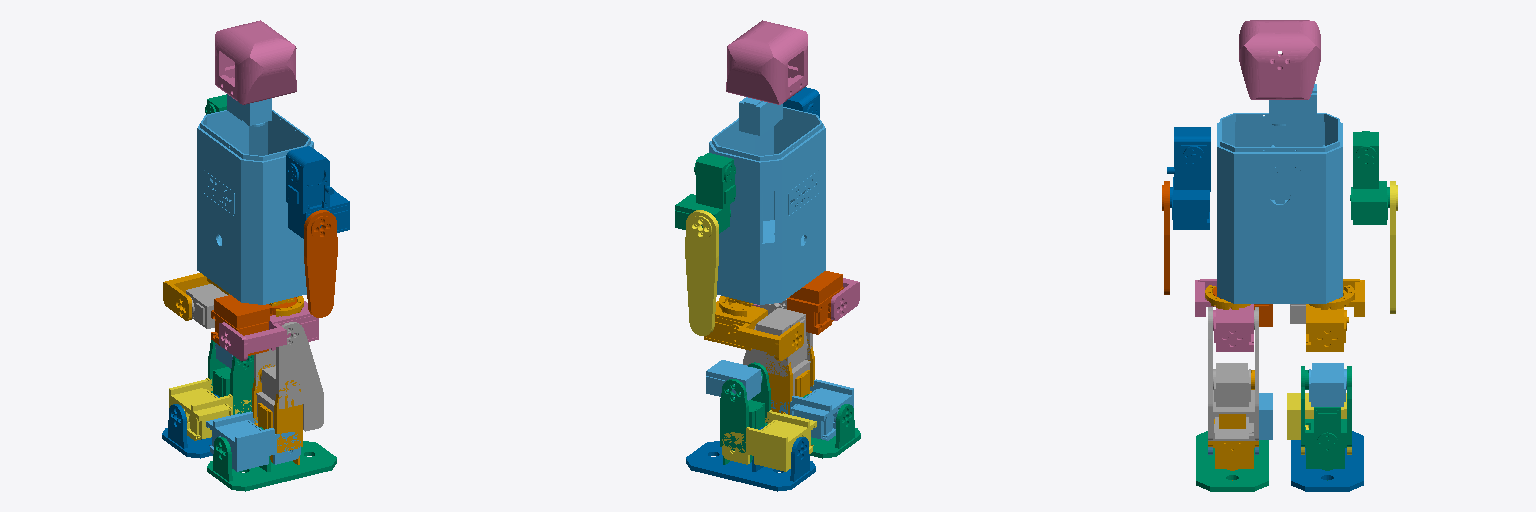
URDF robot description (jx0):
<?xml version="1.0"?>
<!-- generated by jx0/rl/build_description.py: do not edit -->
<robot name="jx0">
  <link name="pelvis">
    <inertial>
      <origin xyz="0.00067658 0 0.0490736" rpy="0 0 0"/>
      <mass value="0.269"/>
      <inertia ixx="0.000523292" ixy="0" ixz="0" iyy="6.62058e-05" iyz="0" izz="0.000524273"/>
    </inertial>
    <visual>
      <origin xyz="0 0 0" rpy="0 0 0"/>
      <geometry><mesh filename="../../../cad/stl_engraved/JX0_Pelvis.stl" scale="0.001 0.001 0.001"/></geometry>
    </visual>
    <visual>
      <origin xyz="0 0.045 0" rpy="0 0 0"/>
      <geometry><mesh filename="../../../cad/stl_engraved/JX0_YawKeeper_L.stl" scale="0.001 0.001 0.001"/></geometry>
    </visual>
    <visual>
      <origin xyz="0 0.045 0" rpy="0 0 0"/>
      <geometry><mesh filename="../../../cad/stl_engraved/JX0_YawRing_L.stl" scale="0.001 0.001 0.001"/></geometry>
    </visual>
    <visual>
      <origin xyz="0 0.045 0.0491" rpy="3.14159 0 -1.5708"/>
      <geometry><mesh filename="../../../cad/stl_engraved/JX0_Servo_STS3215.stl" scale="0.001 0.001 0.001"/></geometry>
    </visual>
    <visual>
      <origin xyz="0 -0.045 0" rpy="0 0 0"/>
      <geometry><mesh filename="../../../cad/stl_engraved/JX0_YawKeeper_R.stl" scale="0.001 0.001 0.001"/></geometry>
    </visual>
    <visual>
      <origin xyz="0 -0.045 0" rpy="0 0 0"/>
      <geometry><mesh filename="../../../cad/stl_engraved/JX0_YawRing_R.stl" scale="0.001 0.001 0.001"/></geometry>
    </visual>
    <visual>
      <origin xyz="0 -0.045 0.0491" rpy="3.14159 0 1.5708"/>
      <geometry><mesh filename="../../../cad/stl_engraved/JX0_Servo_STS3215.stl" scale="0.001 0.001 0.001"/></geometry>
    </visual>
  </link>
  <link name="torso_link">
    <inertial>
      <origin xyz="0.005 0 0.143" rpy="0 0 0"/>
      <mass value="0.663"/>
      <inertia ixx="0.00380673" ixy="0" ixz="0" iyy="0.0025636" iyz="0" izz="0.00195033"/>
    </inertial>
    <visual>
      <origin xyz="0 0 0" rpy="0 0 0"/>
      <geometry><mesh filename="../../../cad/stl_engraved/JX0_Torso.stl" scale="0.001 0.001 0.001"/></geometry>
    </visual>
    <visual>
      <origin xyz="0 0 0" rpy="0 0 0"/>
      <geometry><mesh filename="../../../cad/stl_engraved/JX0_ChestCap.stl" scale="0.001 0.001 0.001"/></geometry>
    </visual>
    <visual>
      <origin xyz="0 0 0.2256" rpy="0 0 1.5708"/>
      <geometry><mesh filename="../../../cad/stl_engraved/JX0_Servo_STS3215.stl" scale="0.001 0.001 0.001"/></geometry>
    </visual>
  </link>
  <link name="left_upper_arm_link">
    <inertial>
      <origin xyz="0.0064 0.0198 -0.0326" rpy="0 0 0"/>
      <mass value="0.204"/>
      <inertia ixx="0.00011" ixy="0" ixz="0" iyy="0.00013" iyz="0" izz="7e-05"/>
    </inertial>
    <visual>
      <origin xyz="0 0 0" rpy="0 0 0"/>
      <geometry><mesh filename="../../../cad/stl_engraved/JX0_UpperArm_L.stl" scale="0.001 0.001 0.001"/></geometry>
    </visual>
    <visual>
      <origin xyz="0 0.0188 0" rpy="0 1.5708 0"/>
      <geometry><mesh filename="../../../cad/stl_engraved/JX0_Servo_STS3215.stl" scale="0.001 0.001 0.001"/></geometry>
    </visual>
    <visual>
      <origin xyz="0 0.0222 -0.052" rpy="-1.5708 0 0"/>
      <geometry><mesh filename="../../../cad/stl_engraved/JX0_Servo_STS3215.stl" scale="0.001 0.001 0.001"/></geometry>
    </visual>
  </link>
  <link name="left_forearm_link">
    <inertial>
      <origin xyz="0.0008 0.0032 -0.0382" rpy="0 0 0"/>
      <mass value="0.016"/>
      <inertia ixx="1.5e-05" ixy="0" ixz="0" iyy="1.5e-05" iyz="0" izz="1.5e-06"/>
    </inertial>
    <visual>
      <origin xyz="0 0 0" rpy="0 0 0"/>
      <geometry><mesh filename="../../../cad/stl_engraved/JX0_ArmBlade_L.stl" scale="0.001 0.001 0.001"/></geometry>
    </visual>
  </link>
  <link name="right_upper_arm_link">
    <inertial>
      <origin xyz="0.0064 -0.0198 -0.0326" rpy="0 0 0"/>
      <mass value="0.204"/>
      <inertia ixx="0.00011" ixy="0" ixz="0" iyy="0.00013" iyz="0" izz="7e-05"/>
    </inertial>
    <visual>
      <origin xyz="0 0 0" rpy="0 0 0"/>
      <geometry><mesh filename="../../../cad/stl_engraved/JX0_UpperArm_R.stl" scale="0.001 0.001 0.001"/></geometry>
    </visual>
    <visual>
      <origin xyz="0 -0.0188 0" rpy="0 1.5708 0"/>
      <geometry><mesh filename="../../../cad/stl_engraved/JX0_Servo_STS3215.stl" scale="0.001 0.001 0.001"/></geometry>
    </visual>
    <visual>
      <origin xyz="0 -0.0222 -0.052" rpy="1.5708 0 0"/>
      <geometry><mesh filename="../../../cad/stl_engraved/JX0_Servo_STS3215.stl" scale="0.001 0.001 0.001"/></geometry>
    </visual>
  </link>
  <link name="right_forearm_link">
    <inertial>
      <origin xyz="0.0008 -0.0032 -0.0382" rpy="0 0 0"/>
      <mass value="0.016"/>
      <inertia ixx="1.5e-05" ixy="0" ixz="0" iyy="1.5e-05" iyz="0" izz="1.5e-06"/>
    </inertial>
    <visual>
      <origin xyz="0 0 0" rpy="0 0 0"/>
      <geometry><mesh filename="../../../cad/stl_engraved/JX0_ArmBlade_R.stl" scale="0.001 0.001 0.001"/></geometry>
    </visual>
  </link>
  <link name="head_link">
    <inertial>
      <origin xyz="0 0 0.031" rpy="0 0 0"/>
      <mass value="0.077"/>
      <inertia ixx="4e-05" ixy="0" ixz="0" iyy="4e-05" iyz="0" izz="4e-05"/>
    </inertial>
    <visual>
      <origin xyz="0 0 0" rpy="0 0 0"/>
      <geometry><mesh filename="../../../cad/stl_engraved/JX0_Head.stl" scale="0.001 0.001 0.001"/></geometry>
    </visual>
    <visual>
      <origin xyz="0 0 0" rpy="0 0 0"/>
      <geometry><mesh filename="../../../cad/stl_engraved/JX0_NeckHub.stl" scale="0.001 0.001 0.001"/></geometry>
    </visual>
  </link>
  <link name="left_hip_yaw_link">
    <inertial>
      <origin xyz="-0.0308234 -0.0115345 0.0057931" rpy="0 0 0"/>
      <mass value="0.145"/>
      <inertia ixx="4.07101e-05" ixy="0" ixz="0" iyy="5.45606e-05" iyz="0" izz="5.12416e-05"/>
    </inertial>
    <visual>
      <origin xyz="0 0 0" rpy="0 0 0"/>
      <geometry><mesh filename="../../../cad/stl_engraved/JX0_HipYawBracket_L.stl" scale="0.001 0.001 0.001"/></geometry>
    </visual>
    <visual>
      <origin xyz="-0.0347 0 0" rpy="-1.5708 0 -1.5708"/>
      <geometry><mesh filename="../../../cad/stl_engraved/JX0_Servo_STS3215.stl" scale="0.001 0.001 0.001"/></geometry>
    </visual>
  </link>
  <link name="left_hip_roll_link">
    <inertial>
      <origin xyz="0.00558468 0.00197581 0.000564516" rpy="0 0 0"/>
      <mass value="0.124"/>
      <inertia ixx="3.40288e-05" ixy="0" ixz="0" iyy="4.28804e-05" iyz="0" izz="5.59343e-05"/>
    </inertial>
    <visual>
      <origin xyz="0 0 0" rpy="0 0 0"/>
      <geometry><mesh filename="../../../cad/stl_engraved/JX0_HipRollBracket_L.stl" scale="0.001 0.001 0.001"/></geometry>
    </visual>
    <visual>
      <origin xyz="0 0 0" rpy="-1.5708 0 0"/>
      <geometry><mesh filename="../../../cad/stl_engraved/JX0_Servo_STS3215.stl" scale="0.001 0.001 0.001"/></geometry>
    </visual>
  </link>
  <link name="left_thigh_link">
    <inertial>
      <origin xyz="0.0123296 -0.000681481 -0.0555259" rpy="0 0 0"/>
      <mass value="0.135"/>
      <inertia ixx="5.53996e-05" ixy="0" ixz="0" iyy="4.8902e-05" iyz="0" izz="3.93075e-05"/>
    </inertial>
    <visual>
      <origin xyz="0 0 0" rpy="0 0 0"/>
      <geometry><mesh filename="../../../cad/stl_engraved/JX0_Thigh_L.stl" scale="0.001 0.001 0.001"/></geometry>
    </visual>
    <collision>
      <origin xyz="0 0 0" rpy="0 0 0"/>
      <geometry><mesh filename="../../../cad/stl_engraved/JX0_Thigh_L.stl" scale="0.001 0.001 0.001"/></geometry>
    </collision>
    <visual>
      <origin xyz="0 0 -0.062" rpy="-1.5708 0 0"/>
      <geometry><mesh filename="../../../cad/stl_engraved/JX0_Servo_STS3215.stl" scale="0.001 0.001 0.001"/></geometry>
    </visual>
  </link>
  <link name="left_shin_link">
    <inertial>
      <origin xyz="0.000478632 -0.000717949 -0.040594" rpy="0 0 0"/>
      <mass value="0.117"/>
      <inertia ixx="4.35498e-05" ixy="0" ixz="0" iyy="3.3372e-05" iyz="0" izz="2.9693e-05"/>
    </inertial>
    <visual>
      <origin xyz="0 0 0" rpy="0 0 0"/>
      <geometry><mesh filename="../../../cad/stl_engraved/JX0_Shin_L.stl" scale="0.001 0.001 0.001"/></geometry>
    </visual>
    <collision>
      <origin xyz="0 0 0" rpy="0 0 0"/>
      <geometry><mesh filename="../../../cad/stl_engraved/JX0_Shin_L.stl" scale="0.001 0.001 0.001"/></geometry>
    </collision>
    <visual>
      <origin xyz="0 0 -0.058" rpy="0 -1.5708 0"/>
      <geometry><mesh filename="../../../cad/stl_engraved/JX0_Servo_STS3215.stl" scale="0.001 0.001 0.001"/></geometry>
    </visual>
  </link>
  <link name="left_ankle_pitch_link">
    <inertial>
      <origin xyz="-0.0375221 -0.00817176 0" rpy="0 0 0"/>
      <mass value="0.131"/>
      <inertia ixx="3.1866e-05" ixy="0" ixz="0" iyy="4.59e-05" iyz="0" izz="5.55629e-05"/>
    </inertial>
    <visual>
      <origin xyz="0 0 0" rpy="0 0 0"/>
      <geometry><mesh filename="../../../cad/stl_engraved/JX0_AnkleBracket_L.stl" scale="0.001 0.001 0.001"/></geometry>
    </visual>
    <visual>
      <origin xyz="-0.0408 0 0" rpy="-1.5708 0 -1.5708"/>
      <geometry><mesh filename="../../../cad/stl_engraved/JX0_Servo_STS3215.stl" scale="0.001 0.001 0.001"/></geometry>
    </visual>
  </link>
  <link name="left_foot_link">
    <inertial>
      <origin xyz="-0.014 0 -0.026" rpy="0 0 0"/>
      <mass value="0.061"/>
      <inertia ixx="2.94833e-05" ixy="0" ixz="0" iyy="8.27363e-05" iyz="0" izz="0.00010307"/>
    </inertial>
    <visual>
      <origin xyz="0 0 0" rpy="0 0 0"/>
      <geometry><mesh filename="../../../cad/stl_engraved/JX0_Foot.stl" scale="0.001 0.001 0.001"/></geometry>
    </visual>
    <collision name="left_foot_link_sole">
      <origin xyz="-0.006 0 -0.032" rpy="0 0 0"/>
      <geometry><box size="0.124 0.07 0.002"/></geometry>
    </collision>
  </link>
  <link name="right_hip_yaw_link">
    <inertial>
      <origin xyz="-0.0308234 0.0115345 0.0057931" rpy="0 0 0"/>
      <mass value="0.145"/>
      <inertia ixx="4.07101e-05" ixy="0" ixz="0" iyy="5.45606e-05" iyz="0" izz="5.12416e-05"/>
    </inertial>
    <visual>
      <origin xyz="0 0 0" rpy="0 0 0"/>
      <geometry><mesh filename="../../../cad/stl_engraved/JX0_HipYawBracket_R.stl" scale="0.001 0.001 0.001"/></geometry>
    </visual>
    <visual>
      <origin xyz="-0.0347 0 0" rpy="1.5708 0 1.5708"/>
      <geometry><mesh filename="../../../cad/stl_engraved/JX0_Servo_STS3215.stl" scale="0.001 0.001 0.001"/></geometry>
    </visual>
  </link>
  <link name="right_hip_roll_link">
    <inertial>
      <origin xyz="0.00558468 -0.00197581 0.000564516" rpy="0 0 0"/>
      <mass value="0.124"/>
      <inertia ixx="3.40288e-05" ixy="0" ixz="0" iyy="4.28804e-05" iyz="0" izz="5.59343e-05"/>
    </inertial>
    <visual>
      <origin xyz="0 0 0" rpy="0 0 0"/>
      <geometry><mesh filename="../../../cad/stl_engraved/JX0_HipRollBracket_R.stl" scale="0.001 0.001 0.001"/></geometry>
    </visual>
    <visual>
      <origin xyz="0 0 0" rpy="1.5708 0 0"/>
      <geometry><mesh filename="../../../cad/stl_engraved/JX0_Servo_STS3215.stl" scale="0.001 0.001 0.001"/></geometry>
    </visual>
  </link>
  <link name="right_thigh_link">
    <inertial>
      <origin xyz="0.0123296 0.000681481 -0.0555259" rpy="0 0 0"/>
      <mass value="0.135"/>
      <inertia ixx="5.53996e-05" ixy="0" ixz="0" iyy="4.8902e-05" iyz="0" izz="3.93075e-05"/>
    </inertial>
    <visual>
      <origin xyz="0 0 0" rpy="0 0 0"/>
      <geometry><mesh filename="../../../cad/stl_engraved/JX0_Thigh_R.stl" scale="0.001 0.001 0.001"/></geometry>
    </visual>
    <collision>
      <origin xyz="0 0 0" rpy="0 0 0"/>
      <geometry><mesh filename="../../../cad/stl_engraved/JX0_Thigh_R.stl" scale="0.001 0.001 0.001"/></geometry>
    </collision>
    <visual>
      <origin xyz="0 0 -0.062" rpy="1.5708 0 0"/>
      <geometry><mesh filename="../../../cad/stl_engraved/JX0_Servo_STS3215.stl" scale="0.001 0.001 0.001"/></geometry>
    </visual>
  </link>
  <link name="right_shin_link">
    <inertial>
      <origin xyz="0.000478632 0.000717949 -0.040594" rpy="0 0 0"/>
      <mass value="0.117"/>
      <inertia ixx="4.35498e-05" ixy="0" ixz="0" iyy="3.3372e-05" iyz="0" izz="2.9693e-05"/>
    </inertial>
    <visual>
      <origin xyz="0 0 0" rpy="0 0 0"/>
      <geometry><mesh filename="../../../cad/stl_engraved/JX0_Shin_R.stl" scale="0.001 0.001 0.001"/></geometry>
    </visual>
    <collision>
      <origin xyz="0 0 0" rpy="0 0 0"/>
      <geometry><mesh filename="../../../cad/stl_engraved/JX0_Shin_R.stl" scale="0.001 0.001 0.001"/></geometry>
    </collision>
    <visual>
      <origin xyz="0 0 -0.058" rpy="0 -1.5708 0"/>
      <geometry><mesh filename="../../../cad/stl_engraved/JX0_Servo_STS3215.stl" scale="0.001 0.001 0.001"/></geometry>
    </visual>
  </link>
  <link name="right_ankle_pitch_link">
    <inertial>
      <origin xyz="-0.0375221 0.00817176 0" rpy="0 0 0"/>
      <mass value="0.131"/>
      <inertia ixx="3.1866e-05" ixy="0" ixz="0" iyy="4.59e-05" iyz="0" izz="5.55629e-05"/>
    </inertial>
    <visual>
      <origin xyz="0 0 0" rpy="0 0 0"/>
      <geometry><mesh filename="../../../cad/stl_engraved/JX0_AnkleBracket_R.stl" scale="0.001 0.001 0.001"/></geometry>
    </visual>
    <visual>
      <origin xyz="-0.0408 0 0" rpy="1.5708 0 1.5708"/>
      <geometry><mesh filename="../../../cad/stl_engraved/JX0_Servo_STS3215.stl" scale="0.001 0.001 0.001"/></geometry>
    </visual>
  </link>
  <link name="right_foot_link">
    <inertial>
      <origin xyz="-0.014 -0 -0.026" rpy="0 0 0"/>
      <mass value="0.061"/>
      <inertia ixx="2.94833e-05" ixy="0" ixz="0" iyy="8.27363e-05" iyz="0" izz="0.00010307"/>
    </inertial>
    <visual>
      <origin xyz="0 0 0" rpy="0 0 0"/>
      <geometry><mesh filename="../../../cad/stl_engraved/JX0_Foot.stl" scale="0.001 0.001 0.001"/></geometry>
    </visual>
    <collision name="right_foot_link_sole">
      <origin xyz="-0.006 0 -0.032" rpy="0 0 0"/>
      <geometry><box size="0.124 0.07 0.002"/></geometry>
    </collision>
  </link>
  <joint name="torso_link_fixed" type="fixed">
    <origin xyz="0 0 0" rpy="0 0 0"/>
    <parent link="pelvis"/>
    <child link="torso_link"/>
  </joint>
  <joint name="left_shoulder_pitch_joint" type="revolute">
    <origin xyz="0.0125 0.063 0.186" rpy="0 0 0"/>
    <parent link="torso_link"/>
    <child link="left_upper_arm_link"/>
    <axis xyz="0 1 0"/>
    <limit lower="-2.87979" upper="1.0472" effort="2.94" velocity="4.72"/>
    <dynamics damping="0.01" friction="0"/>
  </joint>
  <joint name="left_elbow_joint" type="revolute">
    <origin xyz="0 0.041 -0.052" rpy="0 0 0"/>
    <parent link="left_upper_arm_link"/>
    <child link="left_forearm_link"/>
    <axis xyz="0 1 0"/>
    <limit lower="-2.00713" upper="0.523599" effort="2.94" velocity="4.72"/>
    <dynamics damping="0.01" friction="0"/>
  </joint>
  <joint name="right_shoulder_pitch_joint" type="revolute">
    <origin xyz="0.0125 -0.063 0.186" rpy="0 0 0"/>
    <parent link="torso_link"/>
    <child link="right_upper_arm_link"/>
    <axis xyz="0 1 0"/>
    <limit lower="-2.87979" upper="1.0472" effort="2.94" velocity="4.72"/>
    <dynamics damping="0.01" friction="0"/>
  </joint>
  <joint name="right_elbow_joint" type="revolute">
    <origin xyz="0 -0.041 -0.052" rpy="0 0 0"/>
    <parent link="right_upper_arm_link"/>
    <child link="right_forearm_link"/>
    <axis xyz="0 1 0"/>
    <limit lower="-2.00713" upper="0.523599" effort="2.94" velocity="4.72"/>
    <dynamics damping="0.01" friction="0"/>
  </joint>
  <joint name="neck_yaw_joint" type="revolute">
    <origin xyz="0 0 0.2444" rpy="0 0 0"/>
    <parent link="torso_link"/>
    <child link="head_link"/>
    <axis xyz="0 0 1"/>
    <limit lower="-1.39626" upper="1.39626" effort="2.94" velocity="4.72"/>
    <dynamics damping="0.01" friction="0"/>
  </joint>
  <joint name="left_hip_yaw_joint" type="revolute">
    <origin xyz="0 0.045 0" rpy="0 0 0"/>
    <parent link="pelvis"/>
    <child link="left_hip_yaw_link"/>
    <axis xyz="0 0 1"/>
    <limit lower="-0.20944" upper="0.20944" effort="2.94" velocity="4.72"/>
    <dynamics damping="0.01" friction="0"/>
  </joint>
  <joint name="left_hip_roll_joint" type="revolute">
    <origin xyz="0 0 0" rpy="0 0 0"/>
    <parent link="left_hip_yaw_link"/>
    <child link="left_hip_roll_link"/>
    <axis xyz="1 0 0"/>
    <limit lower="-0.349066" upper="0.349066" effort="2.94" velocity="4.72"/>
    <dynamics damping="0.01" friction="0"/>
  </joint>
  <joint name="left_hip_pitch_joint" type="revolute">
    <origin xyz="0 0 0" rpy="0 0 0"/>
    <parent link="left_hip_roll_link"/>
    <child link="left_thigh_link"/>
    <axis xyz="0 1 0"/>
    <limit lower="-1.22173" upper="0.139626" effort="2.94" velocity="4.72"/>
    <dynamics damping="0.01" friction="0"/>
  </joint>
  <joint name="left_knee_joint" type="revolute">
    <origin xyz="0 0 -0.062" rpy="0 0 0"/>
    <parent link="left_thigh_link"/>
    <child link="left_shin_link"/>
    <axis xyz="0 1 0"/>
    <limit lower="0" upper="1.46608" effort="2.94" velocity="4.72"/>
    <dynamics damping="0.01" friction="0"/>
  </joint>
  <joint name="left_ankle_pitch_joint" type="revolute">
    <origin xyz="0 0 -0.058" rpy="0 0 0"/>
    <parent link="left_shin_link"/>
    <child link="left_ankle_pitch_link"/>
    <axis xyz="0 1 0"/>
    <limit lower="-0.959931" upper="0" effort="2.94" velocity="4.72"/>
    <dynamics damping="0.01" friction="0"/>
  </joint>
  <joint name="left_ankle_roll_joint" type="revolute">
    <origin xyz="0 0 0" rpy="0 0 0"/>
    <parent link="left_ankle_pitch_link"/>
    <child link="left_foot_link"/>
    <axis xyz="1 0 0"/>
    <limit lower="-0.349066" upper="0.349066" effort="2.94" velocity="4.72"/>
    <dynamics damping="0.01" friction="0"/>
  </joint>
  <joint name="right_hip_yaw_joint" type="revolute">
    <origin xyz="0 -0.045 0" rpy="0 0 0"/>
    <parent link="pelvis"/>
    <child link="right_hip_yaw_link"/>
    <axis xyz="0 0 1"/>
    <limit lower="-0.20944" upper="0.20944" effort="2.94" velocity="4.72"/>
    <dynamics damping="0.01" friction="0"/>
  </joint>
  <joint name="right_hip_roll_joint" type="revolute">
    <origin xyz="0 0 0" rpy="0 0 0"/>
    <parent link="right_hip_yaw_link"/>
    <child link="right_hip_roll_link"/>
    <axis xyz="1 0 0"/>
    <limit lower="-0.349066" upper="0.314159" effort="2.94" velocity="4.72"/>
    <dynamics damping="0.01" friction="0"/>
  </joint>
  <joint name="right_hip_pitch_joint" type="revolute">
    <origin xyz="0 0 0" rpy="0 0 0"/>
    <parent link="right_hip_roll_link"/>
    <child link="right_thigh_link"/>
    <axis xyz="0 1 0"/>
    <limit lower="-1.22173" upper="0.139626" effort="2.94" velocity="4.72"/>
    <dynamics damping="0.01" friction="0"/>
  </joint>
  <joint name="right_knee_joint" type="revolute">
    <origin xyz="0 0 -0.062" rpy="0 0 0"/>
    <parent link="right_thigh_link"/>
    <child link="right_shin_link"/>
    <axis xyz="0 1 0"/>
    <limit lower="0" upper="1.46608" effort="2.94" velocity="4.72"/>
    <dynamics damping="0.01" friction="0"/>
  </joint>
  <joint name="right_ankle_pitch_joint" type="revolute">
    <origin xyz="0 0 -0.058" rpy="0 0 0"/>
    <parent link="right_shin_link"/>
    <child link="right_ankle_pitch_link"/>
    <axis xyz="0 1 0"/>
    <limit lower="-0.959931" upper="0" effort="2.94" velocity="4.72"/>
    <dynamics damping="0.01" friction="0"/>
  </joint>
  <joint name="right_ankle_roll_joint" type="revolute">
    <origin xyz="0 0 0" rpy="0 0 0"/>
    <parent link="right_ankle_pitch_link"/>
    <child link="right_foot_link"/>
    <axis xyz="1 0 0"/>
    <limit lower="-0.349066" upper="0.349066" effort="2.94" velocity="4.72"/>
    <dynamics damping="0.01" friction="0"/>
  </joint>
  <link name="left_sole_link"/>
  <joint name="left_sole_fixed" type="fixed">
    <origin xyz="0 0 -0.033" rpy="0 0 0"/>
    <parent link="left_foot_link"/>
    <child link="left_sole_link"/>
  </joint>
  <link name="right_sole_link"/>
  <joint name="right_sole_fixed" type="fixed">
    <origin xyz="0 0 -0.033" rpy="0 0 0"/>
    <parent link="right_foot_link"/>
    <child link="right_sole_link"/>
  </joint>
</robot>

--- Render facts (derived) ---
3 views of the same robot in one strip: view 1: azimuth 30°, elevation 25°; view 2: azimuth 150°, elevation 25°; view 3: azimuth 270°, elevation 25° (orthographic).
Robot: jx0 — 21 links, 20 joints (17 revolute, 3 fixed); root link pelvis; default pose: all joints at 0.
Visible links, largest first — view 1: torso_link, head_link, right_thigh_link, right_upper_arm_link, right_foot_link, right_forearm_link, right_ankle_pitch_link, right_hip_roll_link, left_ankle_pitch_link, right_hip_yaw_link, left_shin_link, right_shin_link (+3 smaller); view 2: torso_link, head_link, left_forearm_link, left_foot_link, left_ankle_pitch_link, left_upper_arm_link, left_hip_roll_link, left_shin_link, right_ankle_pitch_link, right_hip_yaw_link, right_thigh_link, right_shin_link (+5 smaller); view 3: torso_link, head_link, right_upper_arm_link, right_thigh_link, left_shin_link, left_upper_arm_link, left_foot_link, right_foot_link, left_hip_roll_link, right_hip_roll_link, right_shin_link, left_thigh_link (+5 smaller).
Boxes of the visible links, bbox=[...] form: torso_link: bbox=[197, 94, 313, 304]; head_link: bbox=[215, 20, 296, 104]; right_thigh_link: bbox=[254, 322, 323, 431]; right_upper_arm_link: bbox=[286, 146, 349, 238]; right_foot_link: bbox=[207, 427, 336, 491]; right_forearm_link: bbox=[304, 210, 337, 317]; right_ankle_pitch_link: bbox=[206, 411, 300, 471]; right_hip_roll_link: bbox=[219, 301, 318, 360]; left_ankle_pitch_link: bbox=[169, 378, 251, 440]; right_hip_yaw_link: bbox=[211, 295, 296, 355]; left_shin_link: bbox=[208, 340, 253, 414]; right_shin_link: bbox=[252, 364, 302, 464]; torso_link: bbox=[709, 97, 825, 304]; head_link: bbox=[726, 20, 807, 104]; left_forearm_link: bbox=[685, 210, 718, 335]; left_foot_link: bbox=[686, 427, 815, 491]; left_ankle_pitch_link: bbox=[722, 410, 816, 471]; left_upper_arm_link: bbox=[675, 153, 735, 233]; left_hip_roll_link: bbox=[704, 301, 803, 360]; left_shin_link: bbox=[720, 362, 770, 464]; right_ankle_pitch_link: bbox=[771, 379, 853, 440]; right_hip_yaw_link: bbox=[787, 271, 843, 334]; right_thigh_link: bbox=[743, 299, 812, 395]; right_shin_link: bbox=[766, 339, 814, 414]; torso_link: bbox=[1217, 84, 1342, 303]; head_link: bbox=[1239, 20, 1320, 99]; right_upper_arm_link: bbox=[1167, 127, 1210, 229]; right_thigh_link: bbox=[1208, 307, 1258, 440]; left_shin_link: bbox=[1301, 366, 1351, 480]; left_upper_arm_link: bbox=[1350, 131, 1389, 224]; left_foot_link: bbox=[1291, 431, 1363, 491]; right_foot_link: bbox=[1196, 431, 1268, 491]; left_hip_roll_link: bbox=[1306, 279, 1364, 351]; right_hip_roll_link: bbox=[1195, 279, 1253, 351]; right_shin_link: bbox=[1208, 370, 1258, 480]; left_thigh_link: bbox=[1309, 363, 1346, 406].
Bounding box of the posed robot: 0.124 × 0.224 × 0.4686 m (x, y, z).
37 mesh visuals loaded from 25 distinct referenced files (20 binary STL); not drawn: 5 (reference not matched to a file when rendering).
